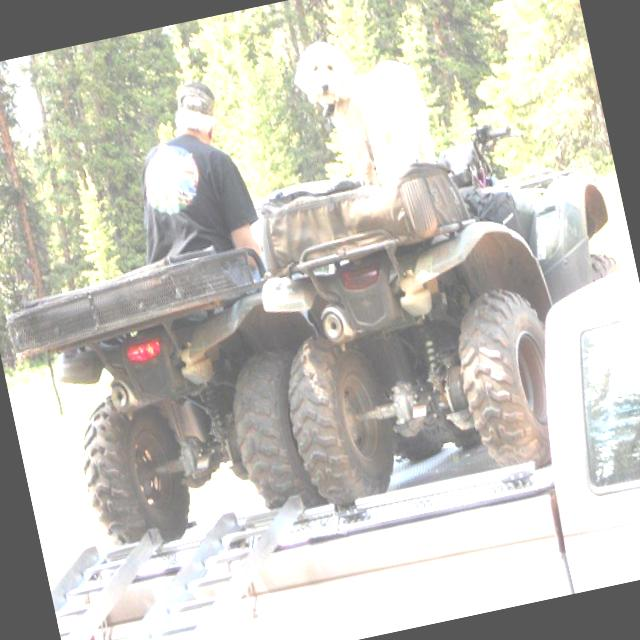Vehicle: (0, 103, 640, 577), (8, 261, 640, 640)
